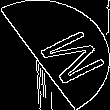M_SW: (14, 22, 96, 88)
